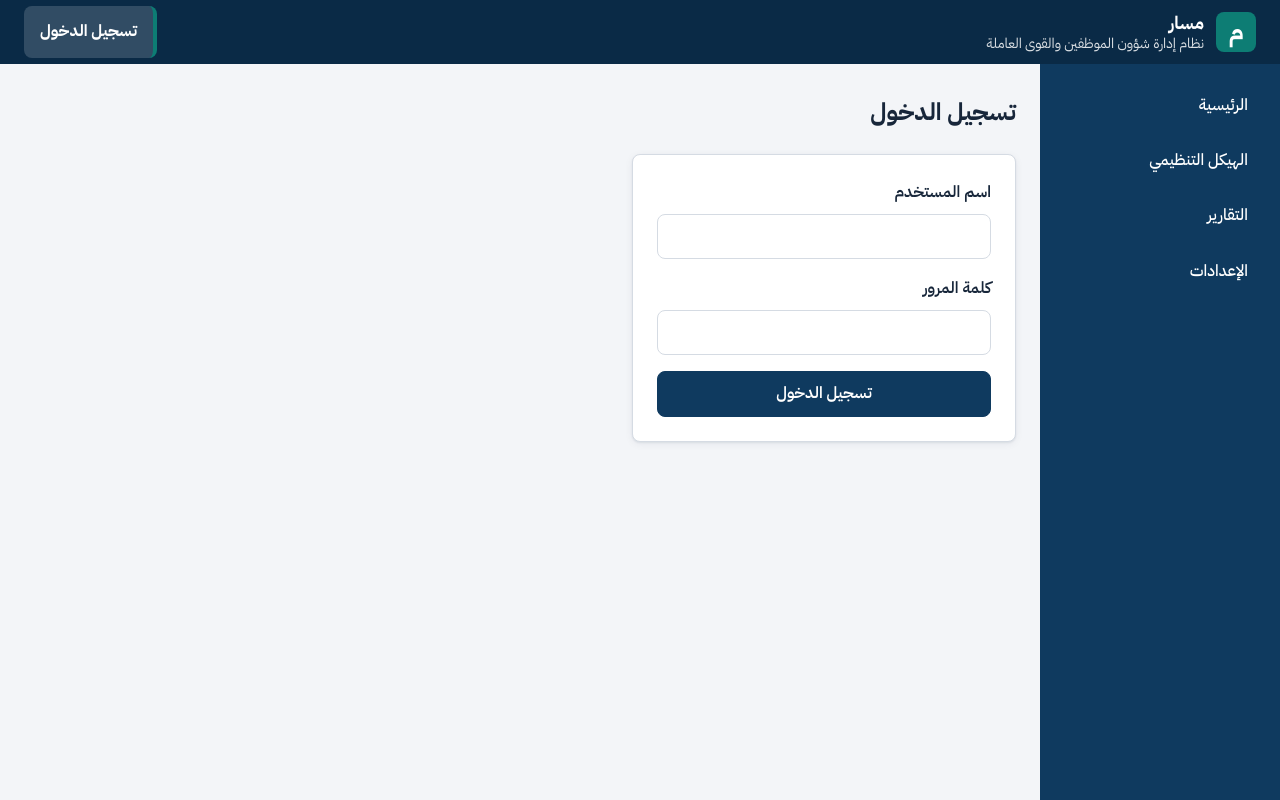
Test: authentication › signs in, lands on the page originally requested, and reveals the Security nav item
Expected: the heading "تسجيل الدخول" is shown, [870, 94, 1016, 130]
In the field labelled "اسم المستخدم": [824, 236] box [657, 214, 991, 259], type "admin"
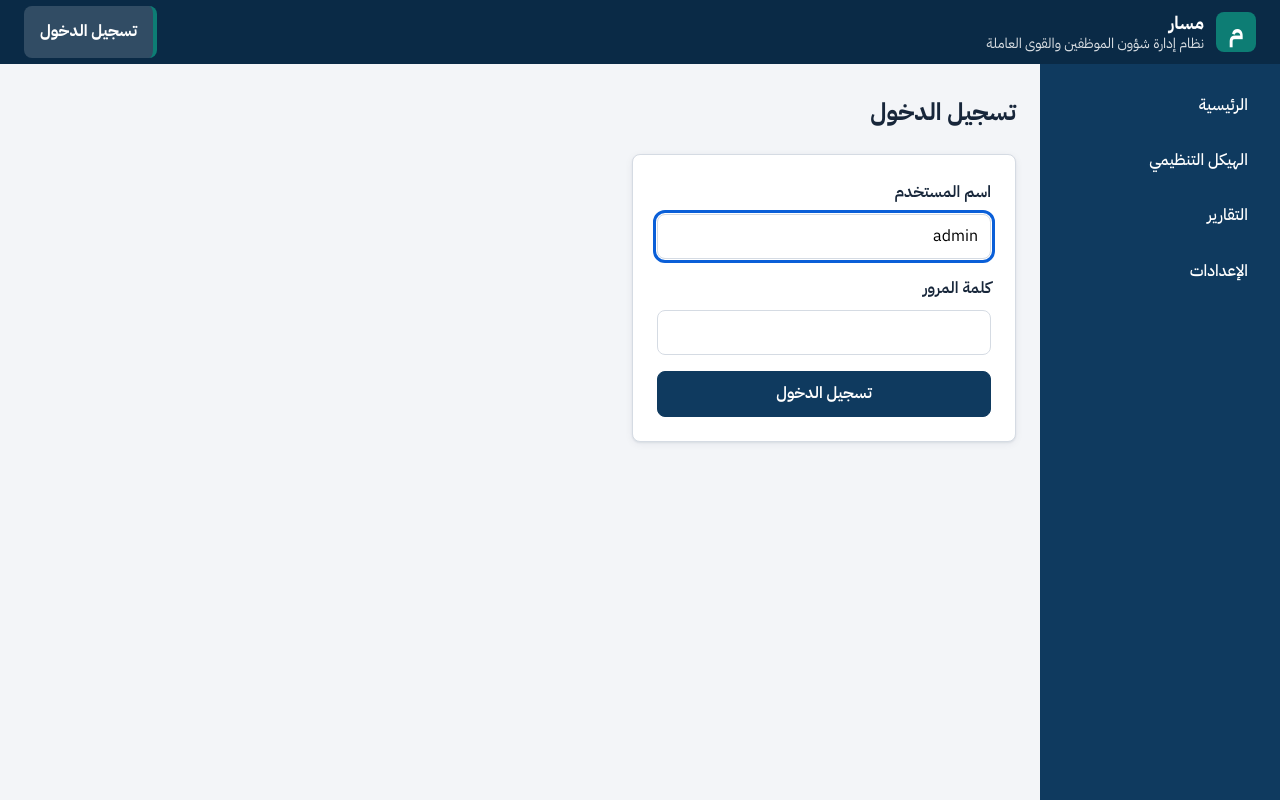
In the password field labelled "كلمة المرور": [824, 333] box [657, 310, 991, 355], type "CorrectHorseBattery1!"
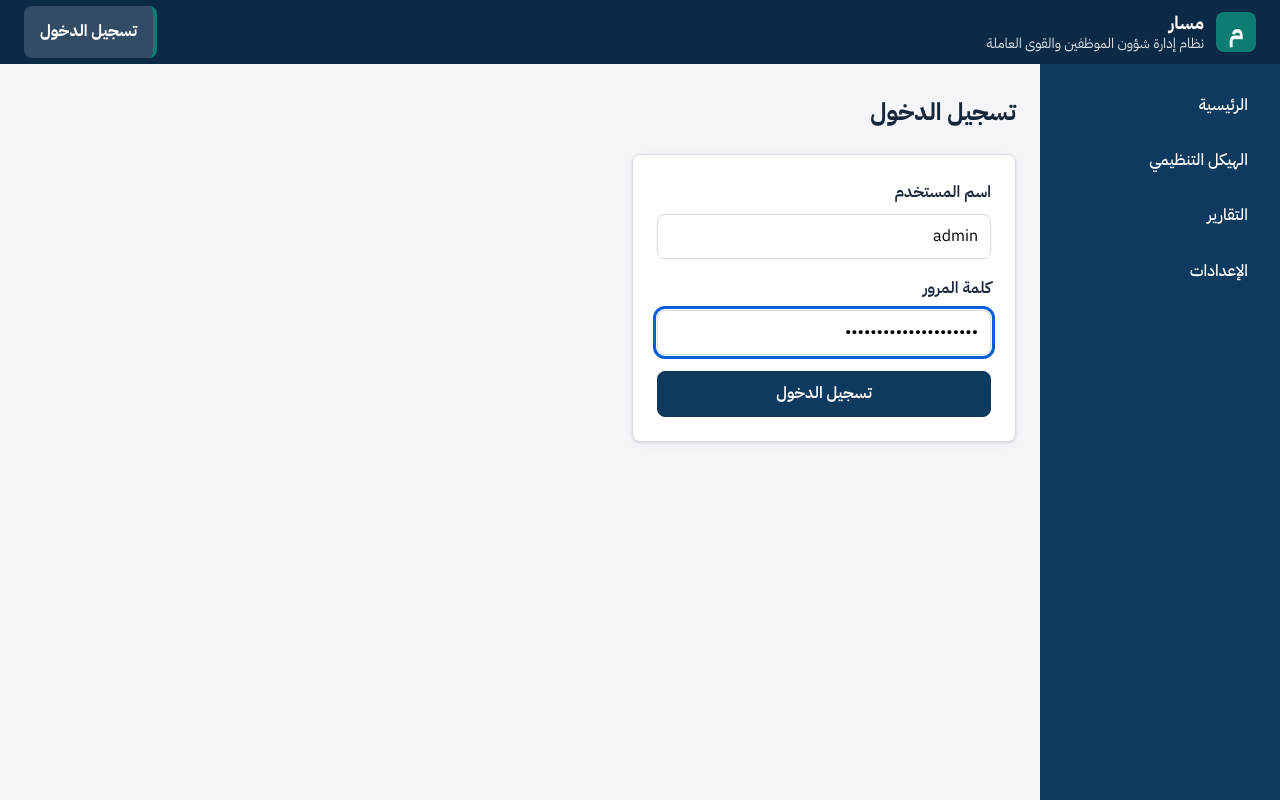
Click the button "تسجيل الدخول": [824, 394] box [657, 371, 991, 416]
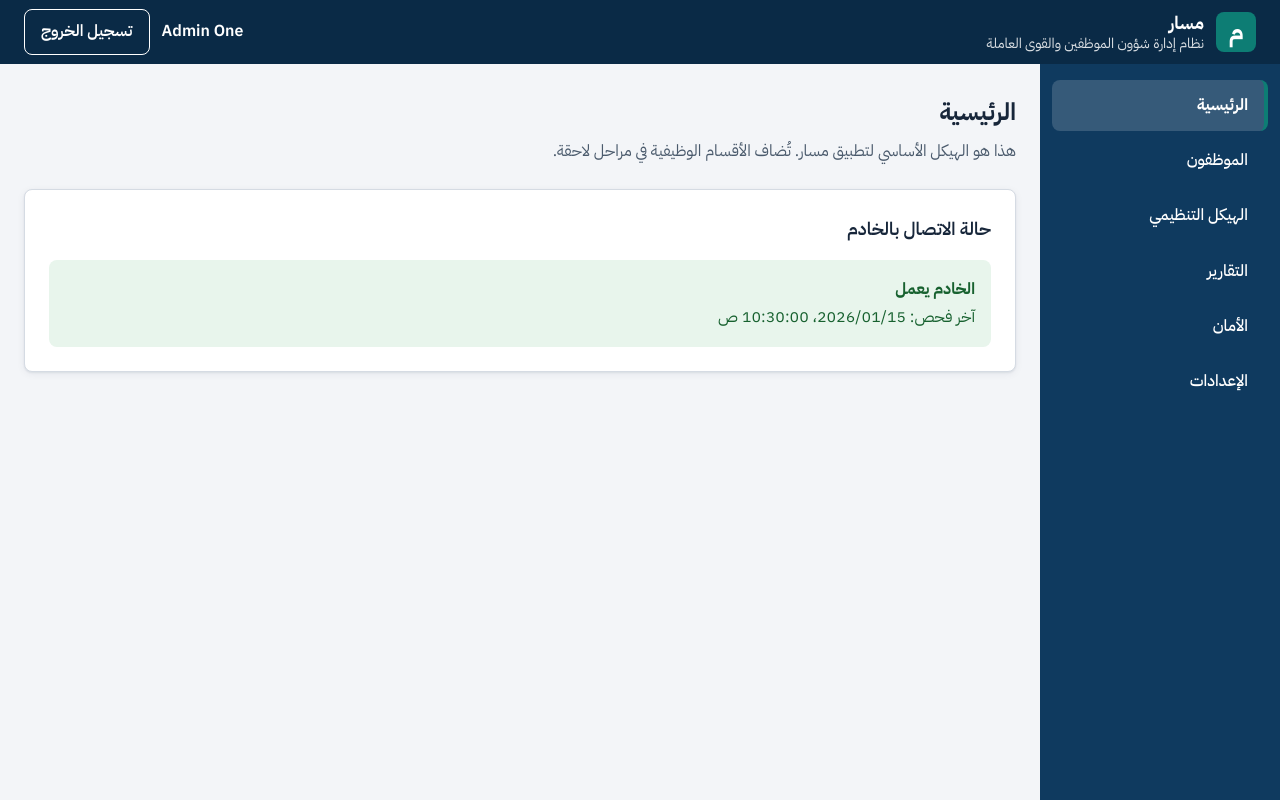
Expected: the text "Admin One" is shown, [162, 18, 243, 46]
Expected: the link "الأمان" is shown, [1213, 314, 1248, 338]
